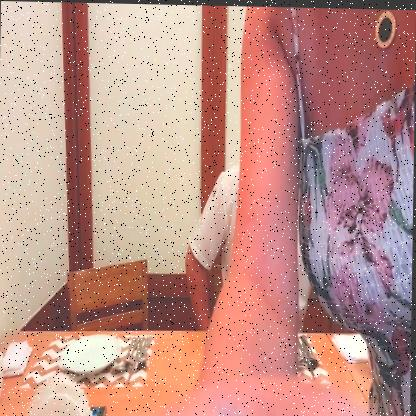streamer: (106, 2, 416, 416), (183, 94, 336, 335)
